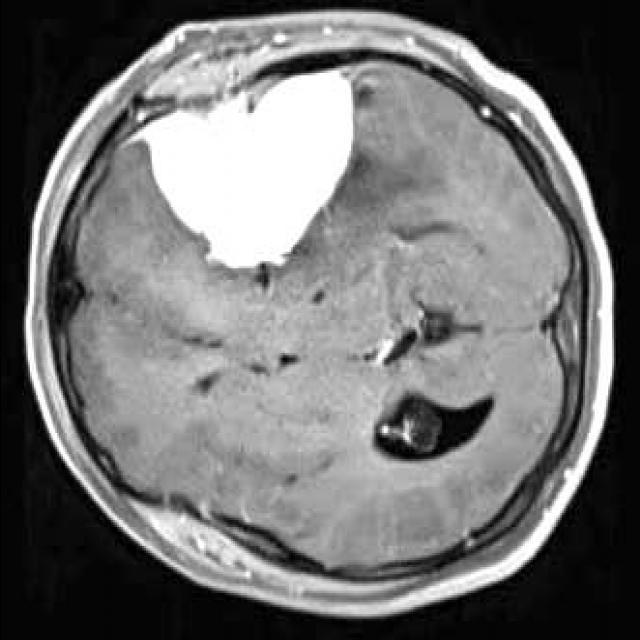tumor: (131, 68, 352, 271)
